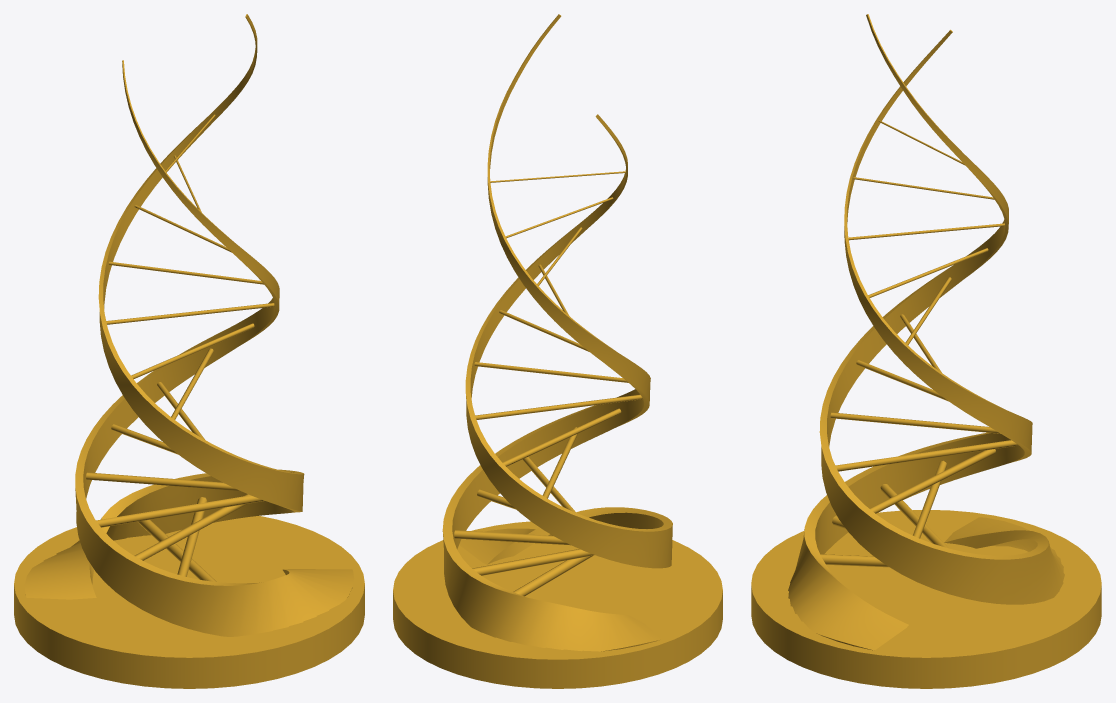
The model's file is medicine.glb.
3 views of the same model, side by side, from view 1: azimuth 30°, elevation 25°; view 2: azimuth 150°, elevation 25°; view 3: azimuth 270°, elevation 25° (orthographic). The views are drawn at different scales.
Visible parts, largest first — view 1: gold_cap, strand_a, strand_b, rung_04, rung_05, rung_03, rung_01, rung_10, rung_09, rung_02, rung_11; view 2: gold_cap, strand_b, strand_a, rung_02, rung_03, rung_08, rung_07, rung_01, rung_09; view 3: gold_cap, strand_b, strand_a, rung_06, rung_07, rung_05, rung_01, rung_03, rung_04, rung_12.
Boxes of the visible parts, x1=… form: gold_cap: x1=14, y1=516, x2=364, y2=688; strand_a: x1=75, y1=60, x2=353, y2=636; strand_b: x1=24, y1=14, x2=304, y2=599; rung_04: x1=96, y1=495, x2=264, y2=527; rung_05: x1=86, y1=472, x2=239, y2=490; rung_03: x1=134, y1=494, x2=249, y2=560; rung_01: x1=137, y1=519, x2=216, y2=581; rung_10: x1=106, y1=303, x2=274, y2=324; rung_09: x1=131, y1=323, x2=254, y2=378; rung_02: x1=177, y1=497, x2=207, y2=576; rung_11: x1=108, y1=261, x2=263, y2=284; gold_cap: x1=393, y1=521, x2=722, y2=688; strand_b: x1=442, y1=14, x2=661, y2=651; strand_a: x1=459, y1=114, x2=672, y2=568; rung_02: x1=472, y1=549, x2=594, y2=575; rung_03: x1=454, y1=530, x2=570, y2=545; rung_08: x1=475, y1=394, x2=642, y2=419; rung_07: x1=502, y1=408, x2=621, y2=466; rung_01: x1=513, y1=555, x2=593, y2=596; rung_09: x1=474, y1=362, x2=628, y2=382; gold_cap: x1=751, y1=510, x2=1101, y2=688; strand_b: x1=819, y1=14, x2=1064, y2=604; strand_a: x1=788, y1=29, x2=1032, y2=650; rung_06: x1=835, y1=440, x2=1018, y2=471; rung_07: x1=830, y1=412, x2=1000, y2=433; rung_05: x1=869, y1=449, x2=995, y2=513; rung_01: x1=820, y1=554, x2=888, y2=567; rung_03: x1=880, y1=484, x2=948, y2=548; rung_04: x1=913, y1=460, x2=946, y2=538; rung_12: x1=848, y1=223, x2=1004, y2=240.
Size of the model in its own units: 0.2661 by 0.5147 by 0.2661.
